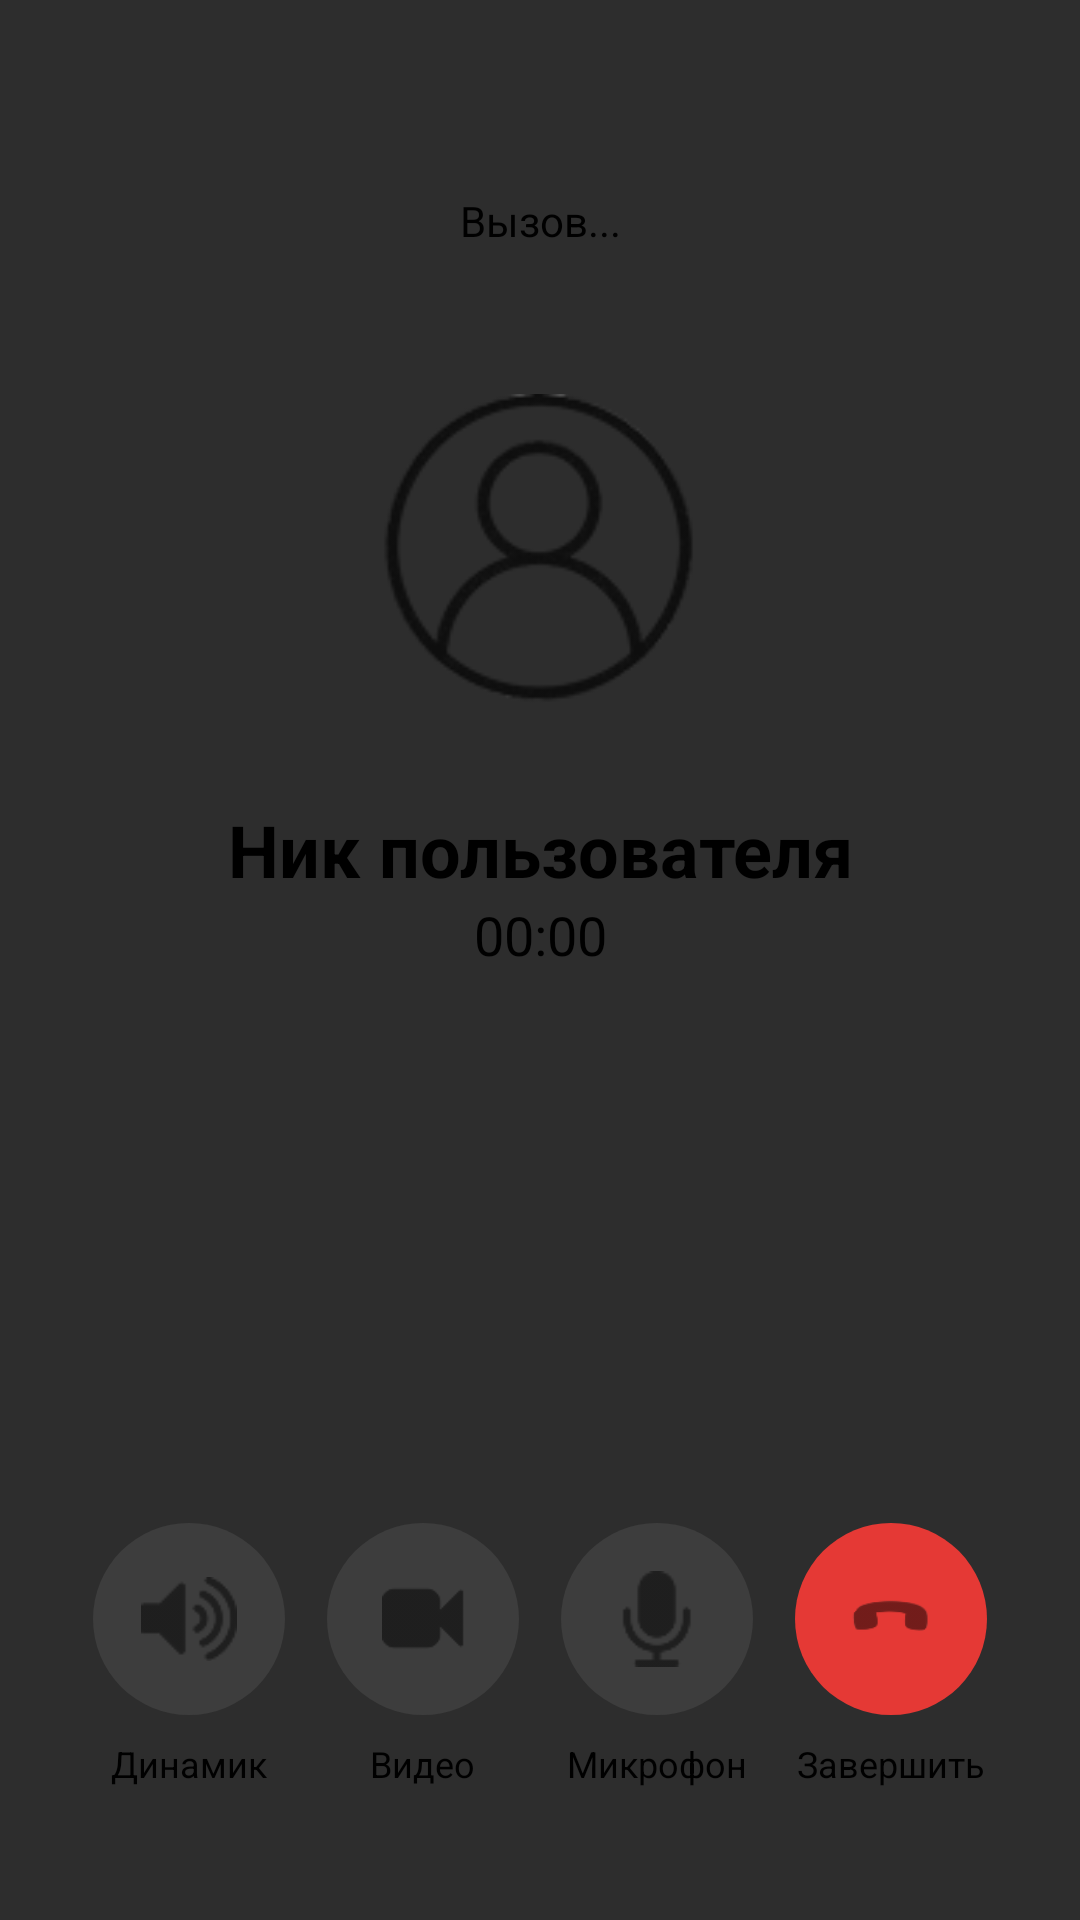

Named icons in this screenshot (1080 x 1920) and their centers, (x=x, y=y):
phone: (x=891, y=1619)
profile: (x=539, y=545)
